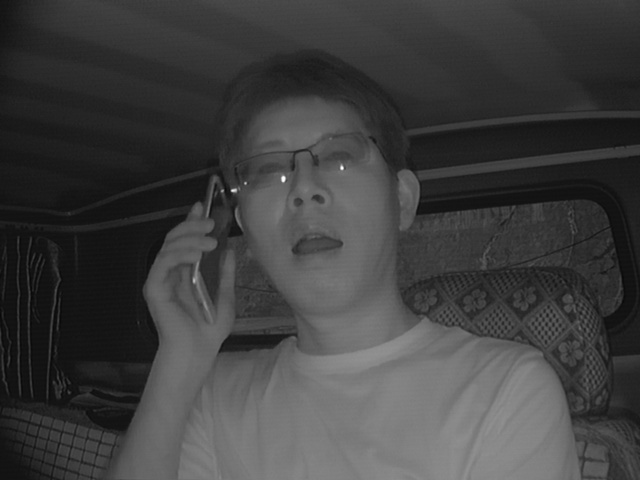hand: (131, 200, 246, 350)
